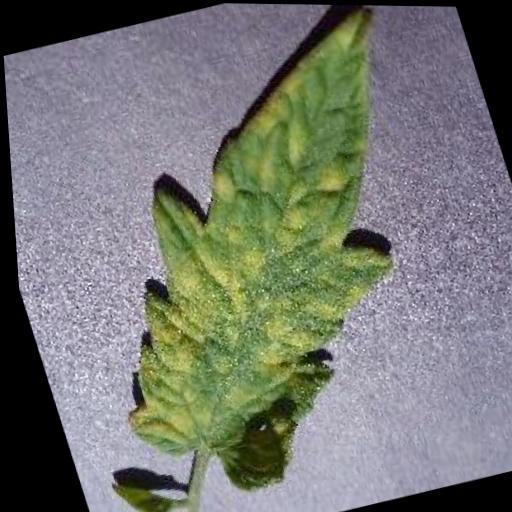Leaf Mold: (18, 0, 501, 512)
